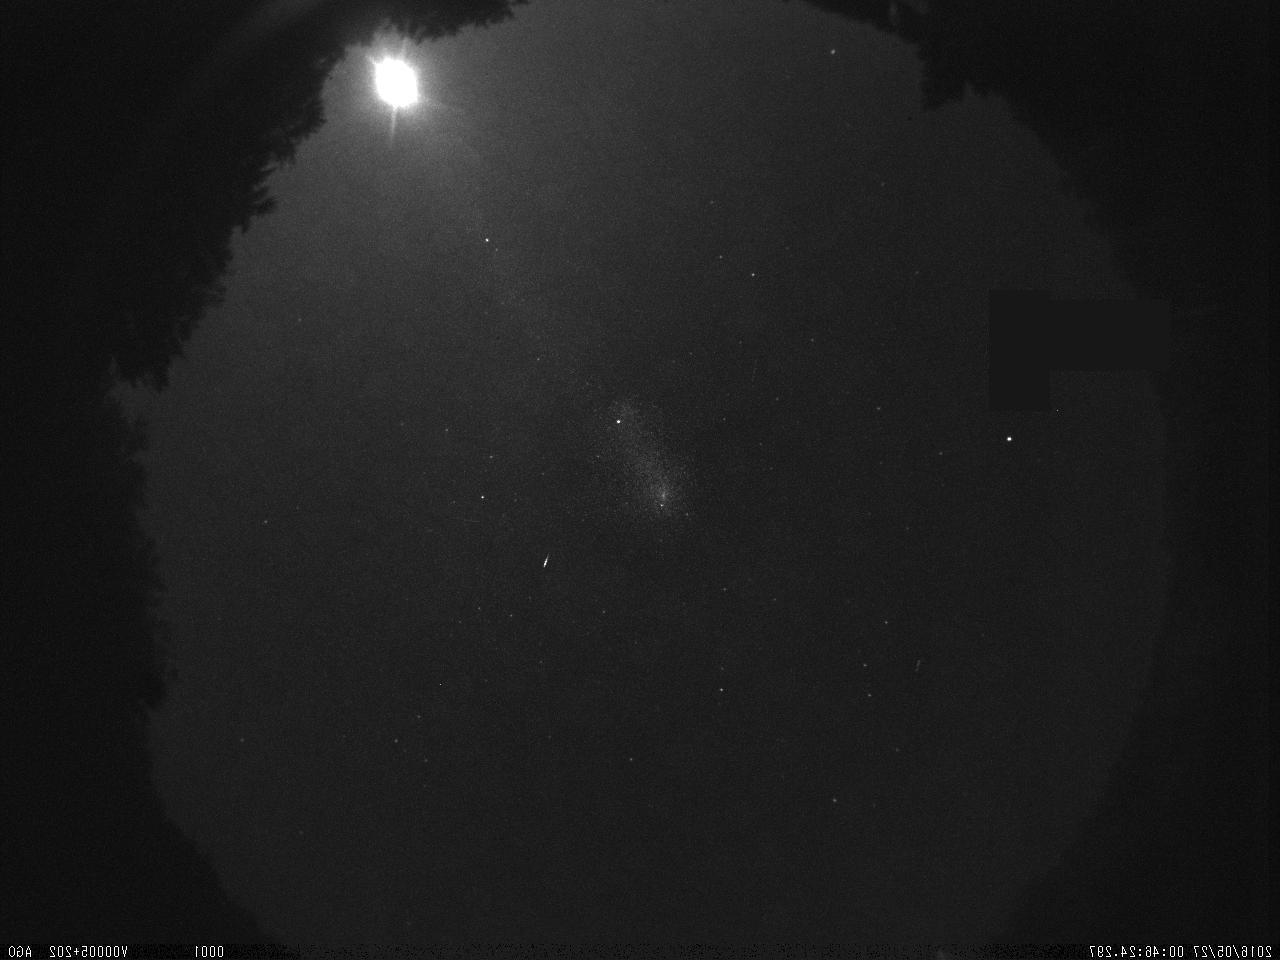meteor: (538, 549, 554, 575)
